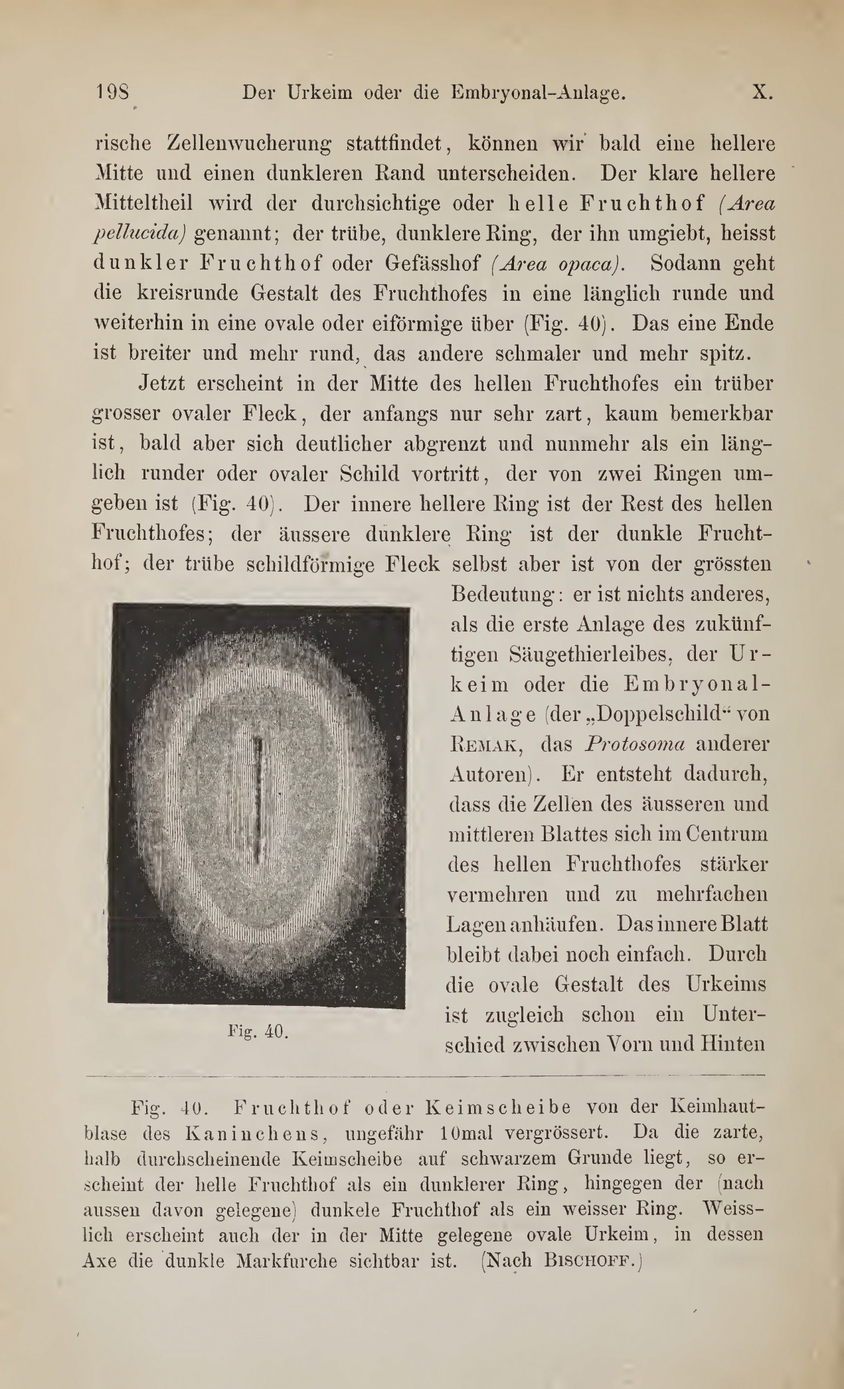GraphicZone_Description: (199, 1006, 314, 1056)
GraphicZone_Illustration: (100, 591, 414, 1015)
MainZone: (76, 123, 786, 1079)
MarginTextZone note: (70, 1086, 782, 1296)
NumberingZone chapter: (737, 66, 794, 117)
NumberingZone_page: (76, 63, 157, 115)
RunningTitleZone: (229, 63, 644, 120)
